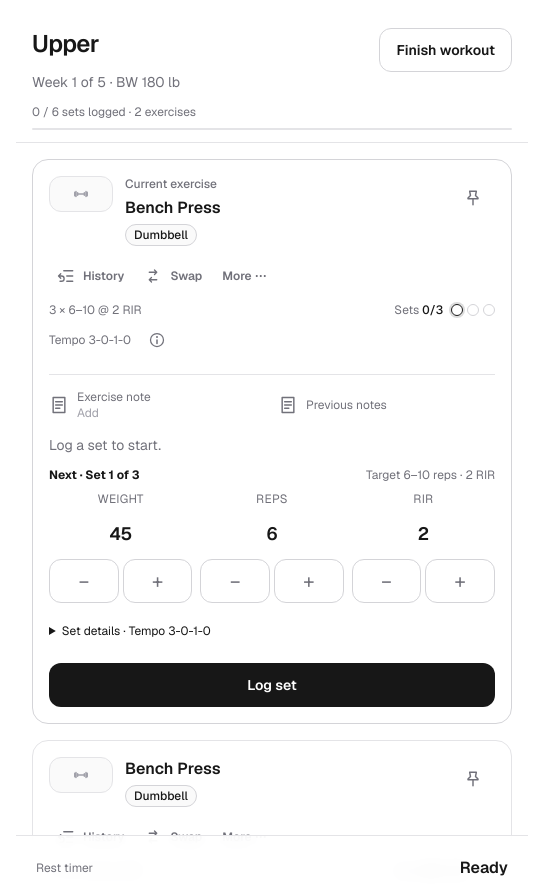
offers out-of-order entry while preserving another exercise's typed draft
Click the button named "Increase Weight": (158, 581) [123,559,192,603]
(page scrolled)
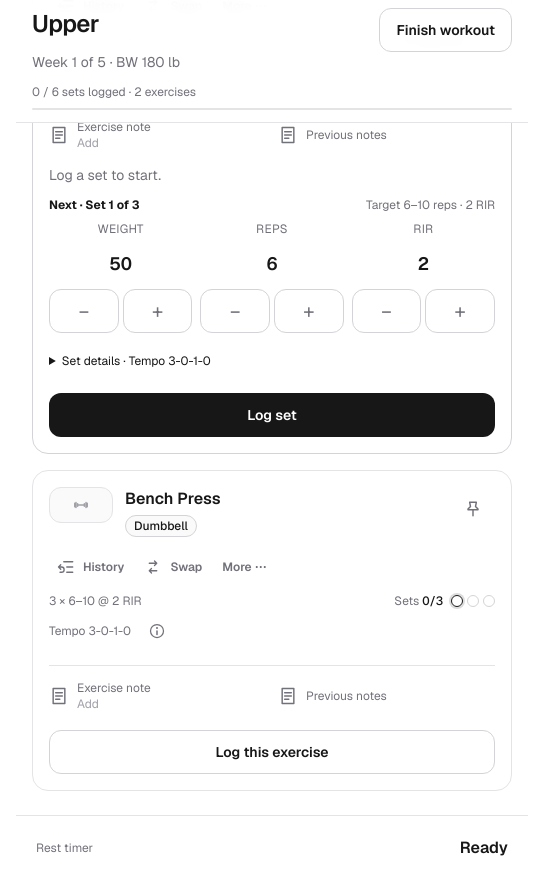
Now the field named "Weight" does not hold "45", box [49,241,192,285]
Click the button "Log this exercise": (272, 752) [49,730,495,774]
(page scrolled)
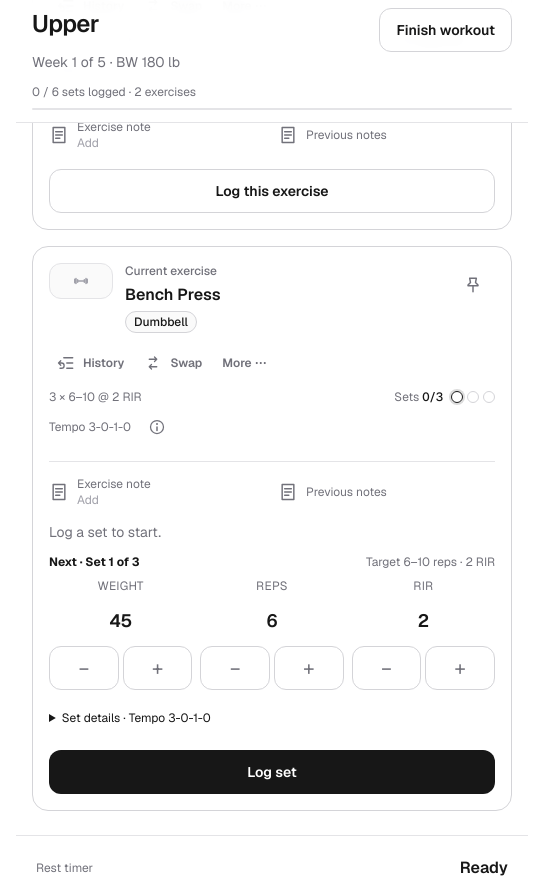
Click the button "Log this exercise": (272, 191) [49,169,495,213]
(page scrolled)
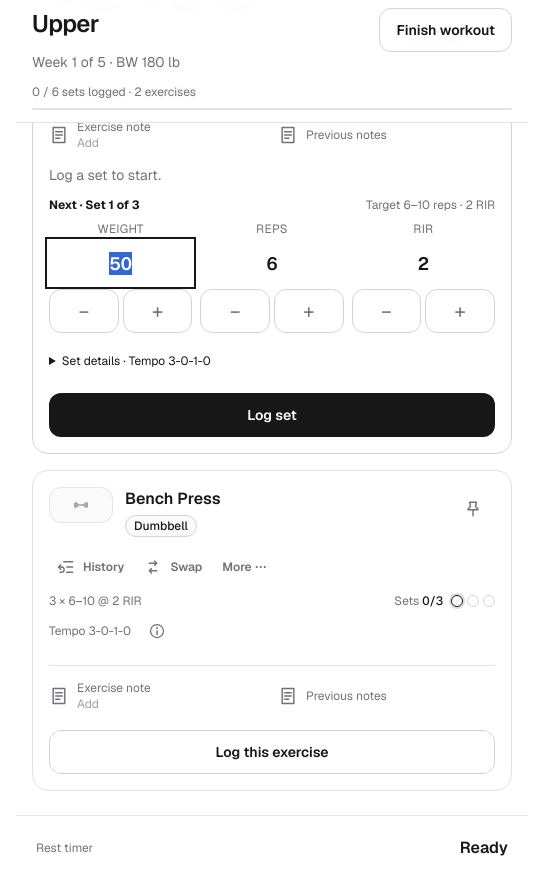
Now the field named "Weight" holds "50", box [49,241,192,285]
